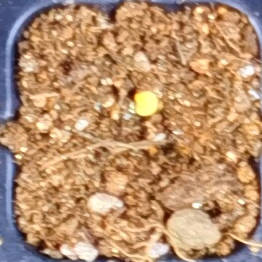pepper seed: (53, 33, 213, 150)
